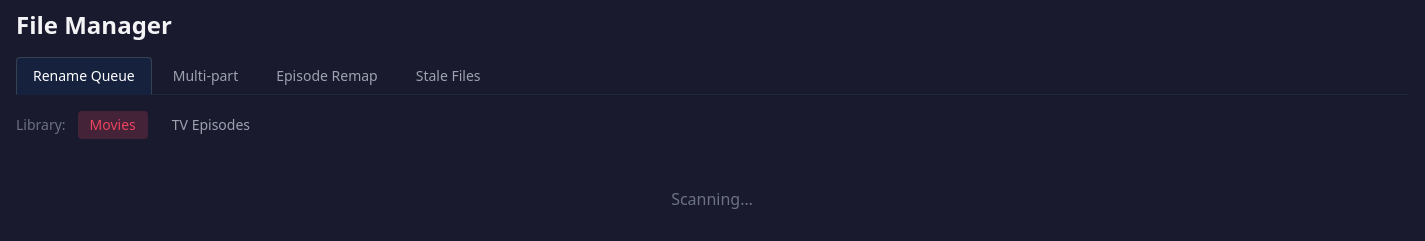
FilesPage › Stale Files tab › shows empty state when no stale files
Click the button "Stale Files": (448, 76) [399,57,498,95]
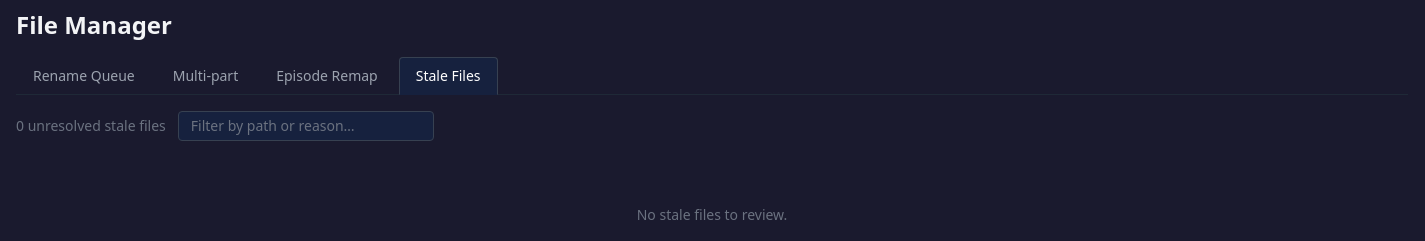
Check: the text "No stale files to review." is shown, box [637,205,787,224]
